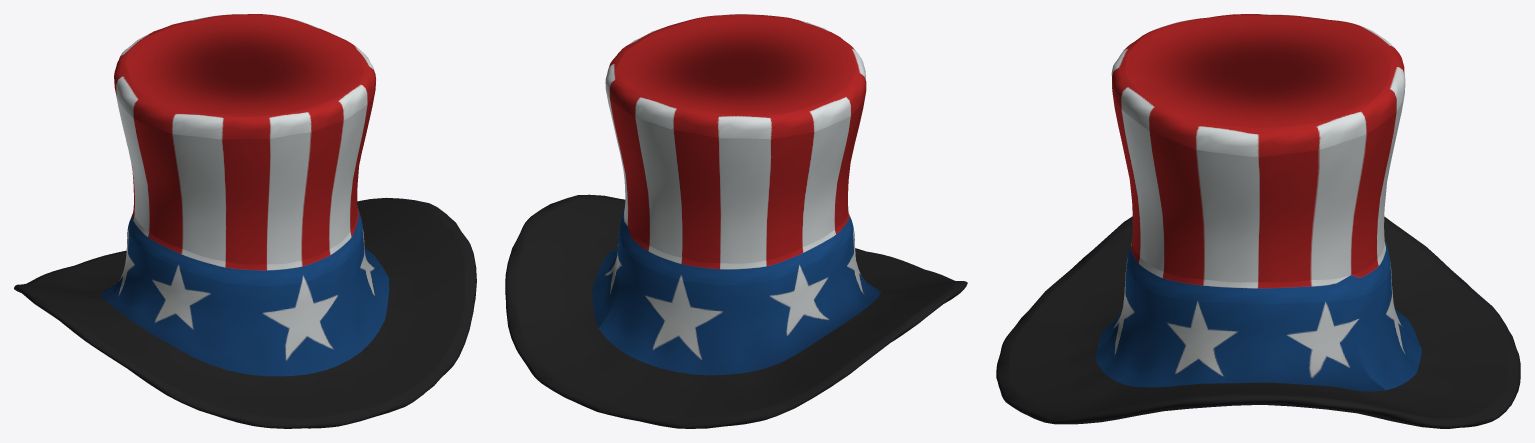
Rendered from AmericanHat.fbx.
The picture shows the model from 3 angles, left to right: view 1: azimuth 30°, elevation 25°; view 2: azimuth 150°, elevation 25°; view 3: azimuth 270°, elevation 25°; orthographic projection. The views are drawn at different scales.
Visible parts, largest first — view 1: m_UncleSamHat01; view 2: m_UncleSamHat01; view 3: m_UncleSamHat01.
Part boxes in pixels (x1,y1,x2,y2): m_UncleSamHat01: (14,14,476,428); m_UncleSamHat01: (505,14,967,428); m_UncleSamHat01: (996,14,1520,428).
Size of the model in its own units: 754 by 497 by 754.
Materials: 2 (1 with a texture image).
